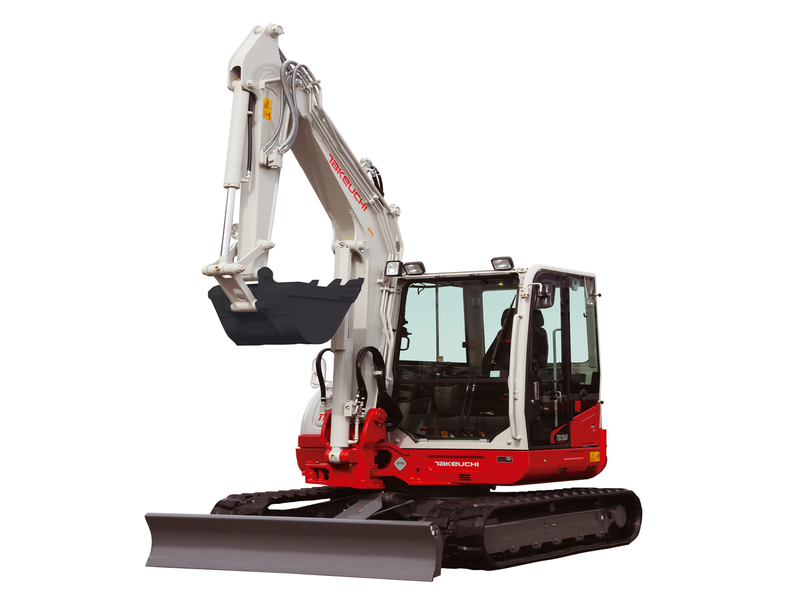shovel: (129, 19, 657, 591)
